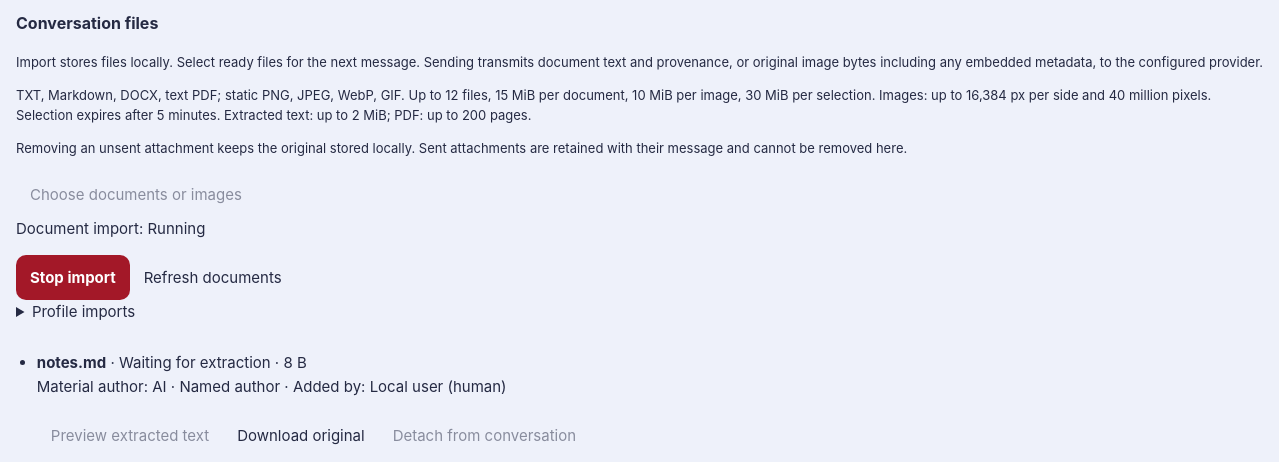
STOP cancels the import operation using the owning profile
What coordinates should you click on to do the following:
click the button "Stop import"
I would click on:
 (73, 278)
Its box is [16,255,130,300].
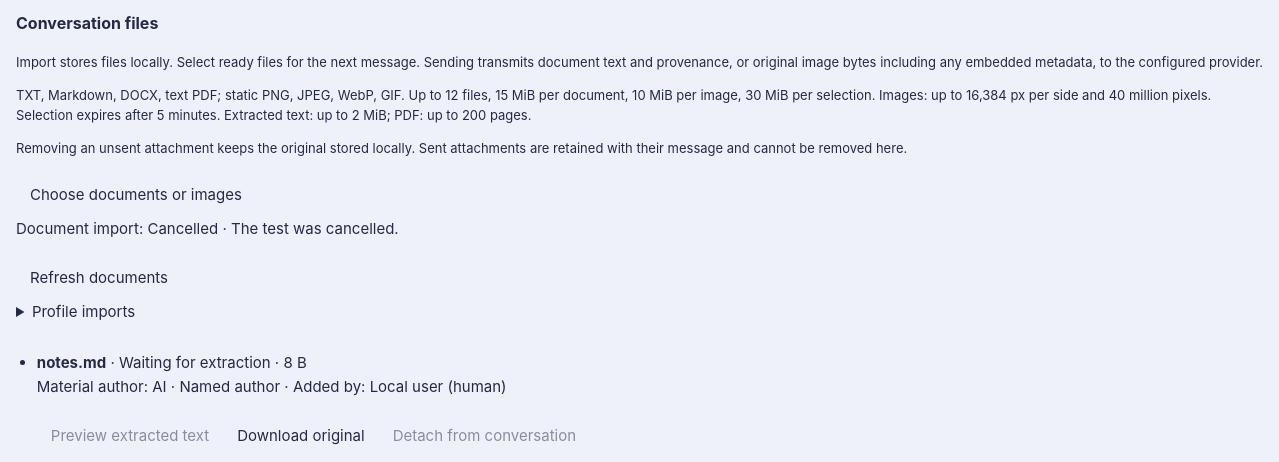
Expected: the text "Stop import" is gone
